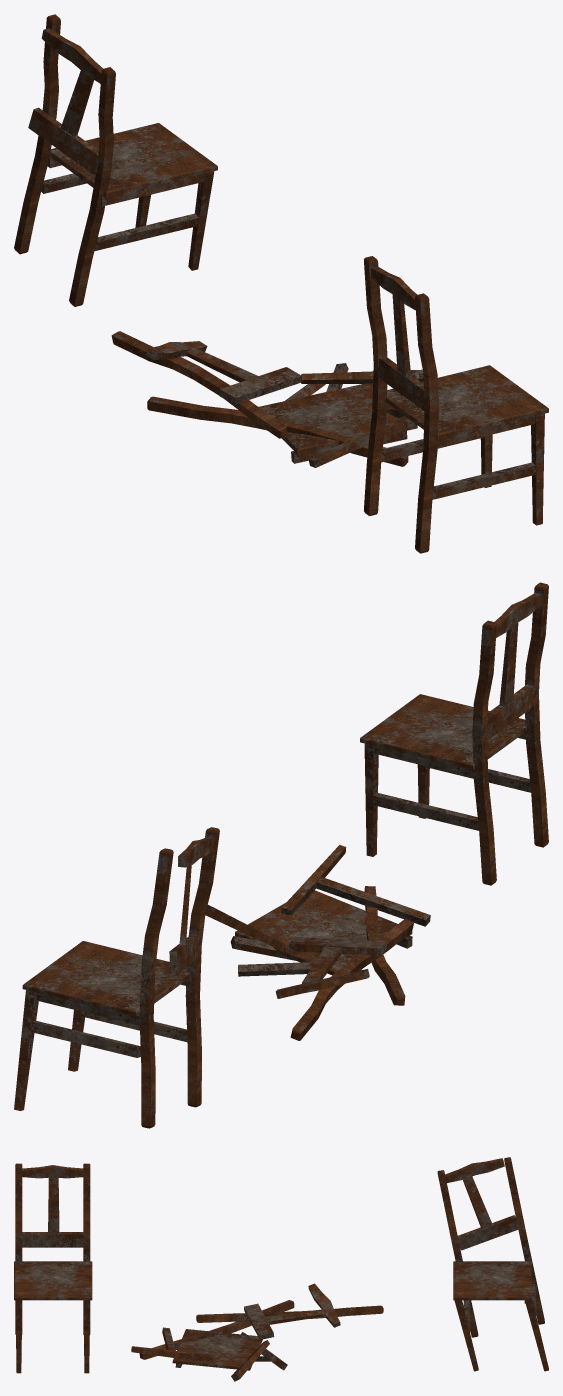
File: Wooden ChairTX.fbx
The picture shows the model from 3 angles, top to bottom: view 1: azimuth 30°, elevation 25°; view 2: azimuth 150°, elevation 25°; view 3: azimuth 270°, elevation 25°; orthographic projection. The views are drawn at different scales.
Parts seen in each view (by area): view 1: Cube, Cube.006, Cube.024; view 2: Cube, Cube.006, Cube.024; view 3: Cube.006, Cube, Cube.024.
Boxes of the visible parts, bbox=[...] form: Cube: bbox=[364, 256, 548, 553]; Cube.006: bbox=[14, 14, 217, 306]; Cube.024: bbox=[111, 331, 423, 467]; Cube: bbox=[360, 582, 548, 885]; Cube.006: bbox=[14, 827, 219, 1128]; Cube.024: bbox=[205, 845, 430, 1040]; Cube.006: bbox=[437, 1157, 548, 1371]; Cube: bbox=[14, 1163, 92, 1373]; Cube.024: bbox=[131, 1283, 383, 1381].
Size of the model in its own units: 3307 by 3825 by 9744.
Materials: 1 (1 with a texture image).
